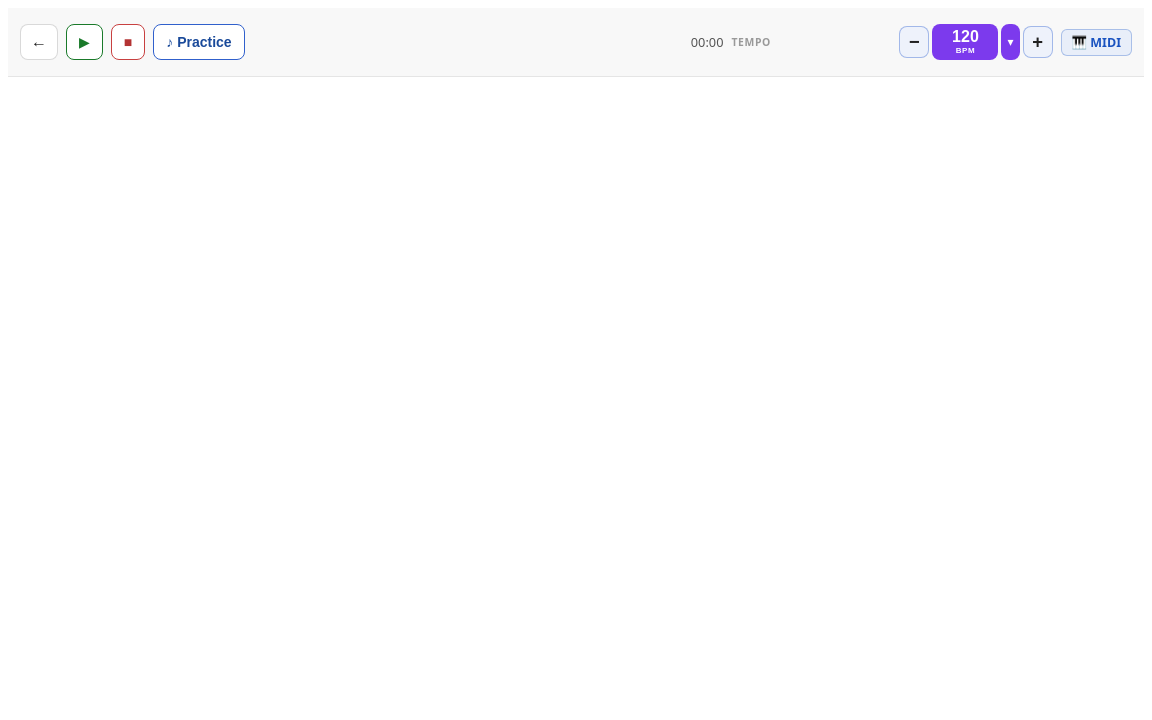
PracticeViewPlugin — Results overlay › shows results overlay when all practice notes are completed
// Start practice
Click the button with aria-label "start practice" at (199, 42), box x1=153 y1=24 x2=245 y2=60
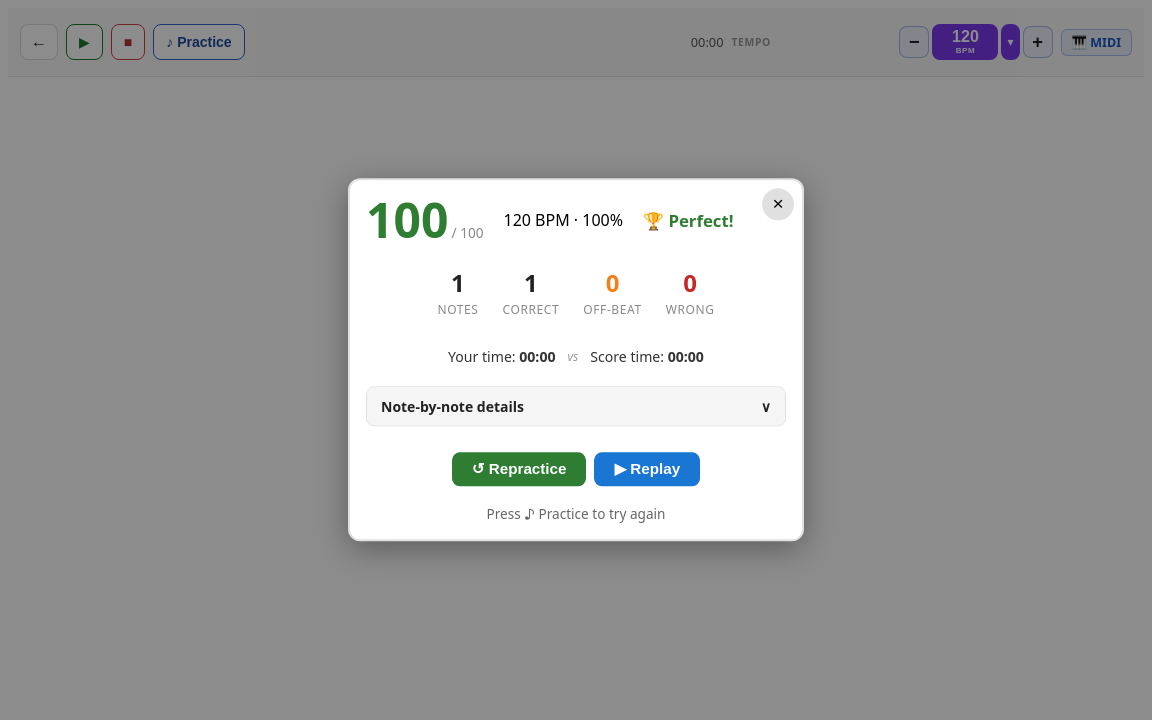
Result: the element named "practice results" is shown at x1=348 y1=178 x2=804 y2=542
Result: the text "100" is shown at x1=366 y1=196 x2=448 y2=244
Result: the text "🏆 Perfect!" is shown at x1=643 y1=209 x2=734 y2=232
